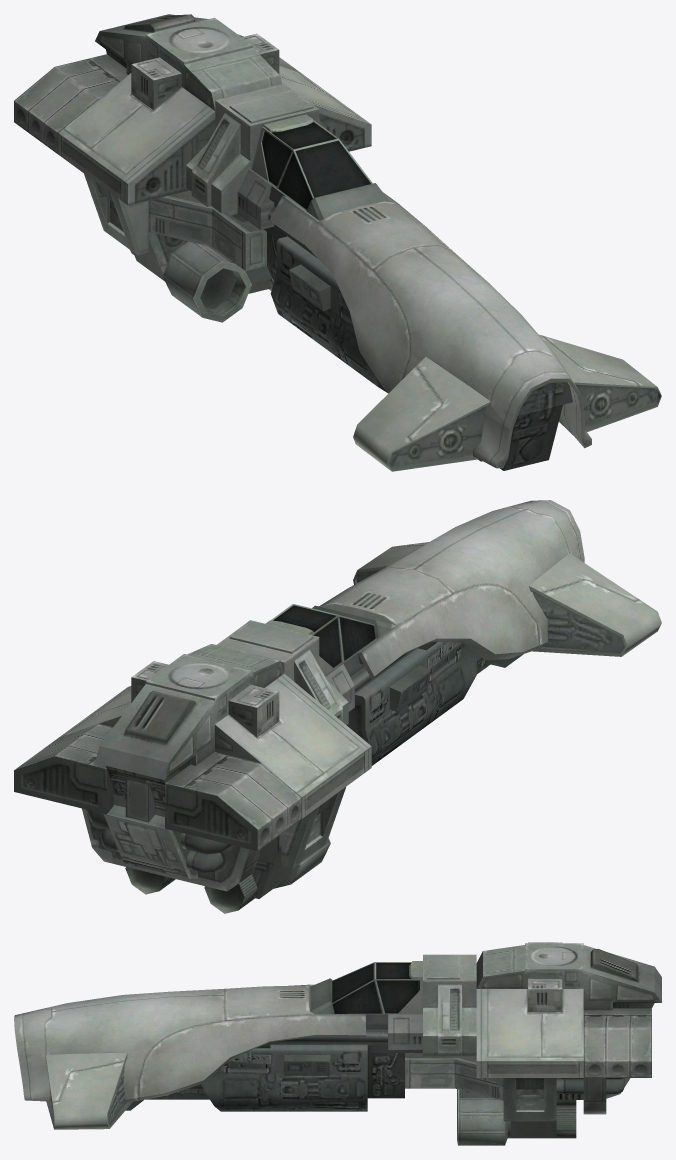
File: black_sun_fighter_light_body_s01_l0.fbx
The picture shows the model from 3 angles, top to bottom: view 1: azimuth 30°, elevation 25°; view 2: azimuth 150°, elevation 25°; view 3: azimuth 270°, elevation 25°; orthographic projection. The views are drawn at different scales.
Visible parts, largest first — view 1: mesh_node; view 2: mesh_node; view 3: mesh_node.
Part boxes in pixels (x1,y1,x2,y2): mesh_node: [14, 14, 661, 471]; mesh_node: [14, 500, 661, 913]; mesh_node: [14, 942, 661, 1145].
Size of the model in its own units: 5.12 by 4.04 by 13.61.
